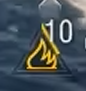1fire: (9, 44, 73, 79)
